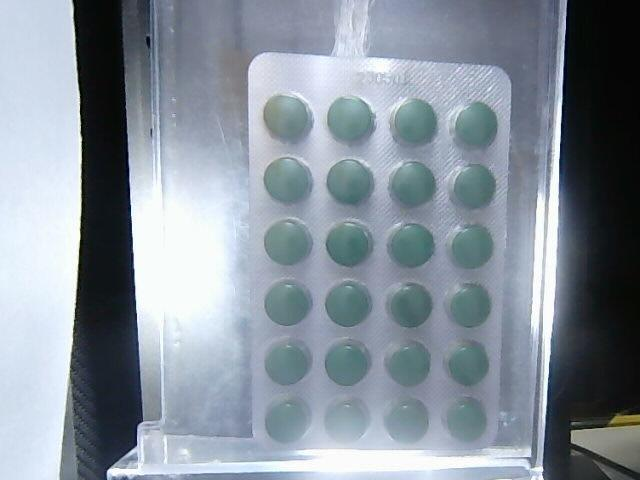Light Front: (245, 53, 512, 456)
Pill Front: (258, 90, 314, 145), (324, 154, 377, 209), (386, 217, 439, 272), (261, 155, 316, 207), (321, 279, 374, 331), (324, 91, 375, 145), (319, 394, 370, 448), (444, 338, 496, 390), (446, 279, 497, 332), (321, 339, 374, 389), (442, 395, 490, 450), (451, 99, 502, 150), (391, 96, 441, 148), (323, 219, 375, 269), (261, 336, 311, 388), (382, 337, 434, 387), (382, 397, 434, 447), (261, 217, 314, 266), (263, 395, 312, 448), (259, 279, 313, 327), (382, 283, 437, 330), (389, 158, 438, 210), (449, 159, 497, 212), (447, 221, 495, 271)
